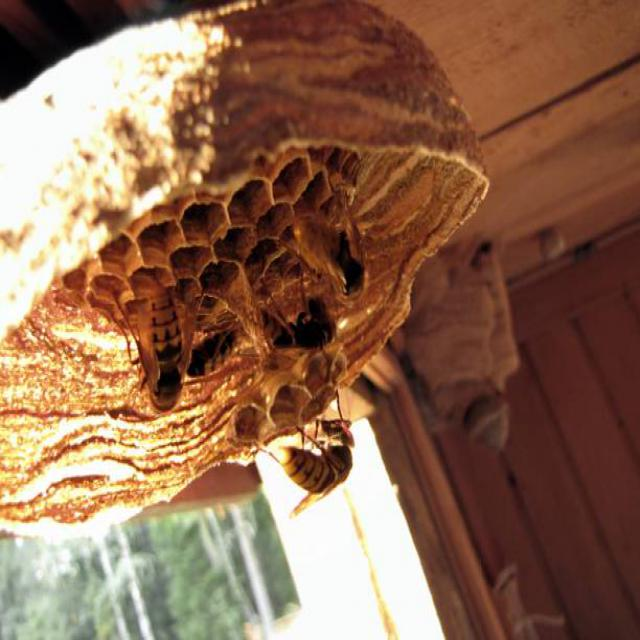Vespa Crabro: (259, 406, 372, 519), (112, 278, 200, 417)
